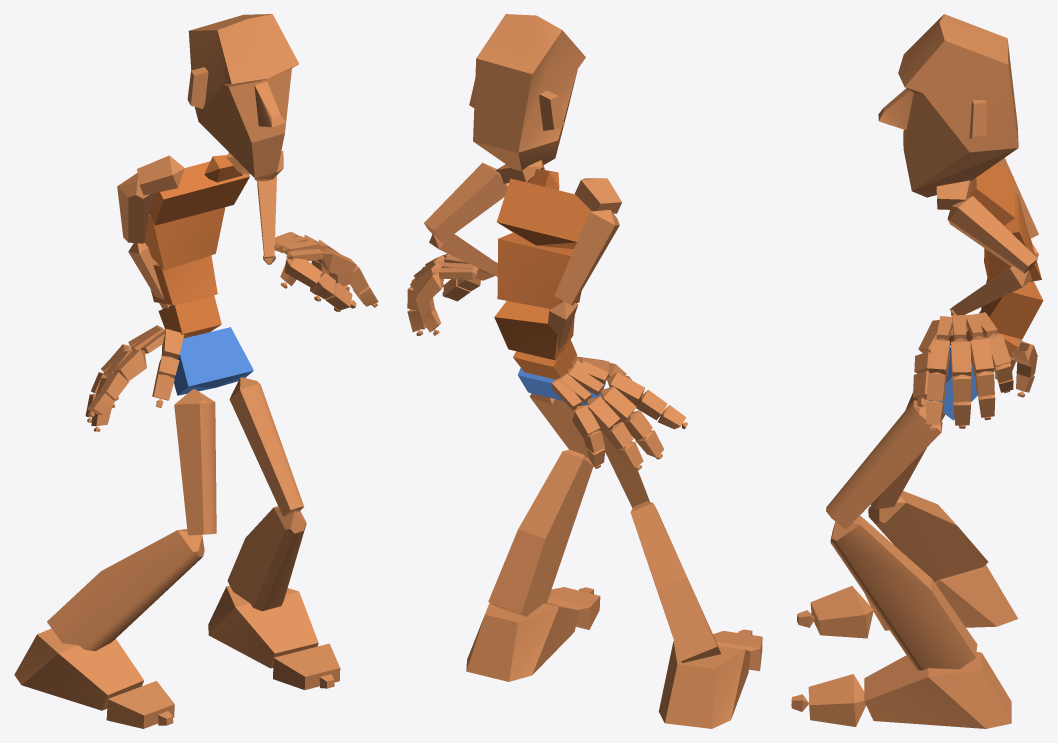
File: personaje39.obj
3 views of the same model, side by side, from view 1: azimuth 30°, elevation 25°; view 2: azimuth 150°, elevation 25°; view 3: azimuth 270°, elevation 25° (orthographic). The views are drawn at different scales.
Parts seen in each view (by area): view 1: BOPED_Head, BOPED_R_leg, BOPED_R_foot, BOPED_R_foot01, BOPED_L_leg, BOPED_R_legup, BOPED_L_legup, Bone01, Bone04, Bone05, Bone03, BOPED_R_foot_toe01 (+10 smaller); view 2: BOPED_Head, BOPED_L_leg, BOPED_R_foot01, BOPED_R_foot, BOPED_R_leg, Bone05, Bone04, BOPED_L_arm_upper, Bone03, BOPED_R_arm_upper, BOPED_L_legup, BOPED_R_foot_toe04 (+13 smaller); view 3: BOPED_Head, BOPED_L_leg, BOPED_R_foot01, BOPED_R_leg, BOPED_L_legup, BOPED_R_foot, BOPED_L_arm_upper, BOPED_R_foot_toe01, BOPED_R_foot_toe04, Bone03, Bone05, BOPED_L_arm_fore (+12 smaller).
Part boxes in pixels (x1,y1,x2,y2): BOPED_Head: [187, 14, 298, 179]; BOPED_R_leg: [47, 529, 204, 651]; BOPED_R_foot: [14, 628, 143, 710]; BOPED_R_foot01: [208, 585, 318, 668]; BOPED_L_leg: [227, 506, 306, 611]; BOPED_R_legup: [174, 389, 216, 535]; BOPED_L_legup: [229, 377, 304, 516]; Bone01: [174, 327, 253, 395]; Bone04: [144, 207, 225, 270]; Bone05: [149, 161, 249, 225]; Bone03: [150, 255, 217, 305]; BOPED_R_foot_toe01: [106, 681, 174, 728]; BOPED_Head: [469, 14, 585, 170]; BOPED_L_leg: [488, 449, 593, 616]; BOPED_R_foot01: [466, 602, 578, 681]; BOPED_R_foot: [658, 641, 750, 728]; BOPED_R_leg: [630, 501, 720, 663]; Bone05: [496, 178, 591, 249]; Bone04: [497, 232, 581, 308]; BOPED_L_arm_upper: [424, 162, 507, 242]; Bone03: [494, 301, 574, 360]; BOPED_R_arm_upper: [554, 209, 619, 305]; BOPED_L_legup: [529, 393, 588, 457]; BOPED_R_foot_toe04: [547, 587, 600, 629]; BOPED_Head: [878, 14, 1018, 197]; BOPED_L_leg: [830, 516, 977, 670]; BOPED_R_foot01: [864, 652, 1011, 728]; BOPED_R_leg: [868, 491, 988, 581]; BOPED_L_legup: [826, 400, 942, 528]; BOPED_R_foot: [864, 565, 1018, 630]; BOPED_L_arm_upper: [947, 196, 1037, 273]; BOPED_R_foot_toe01: [810, 586, 873, 638]; BOPED_R_foot_toe04: [808, 674, 866, 726]; Bone03: [981, 278, 1043, 339]; Bone05: [969, 163, 1015, 225]; BOPED_L_arm_fore: [950, 266, 1031, 315].
Size of the model in its own units: 94.19 by 169 by 56.5.
